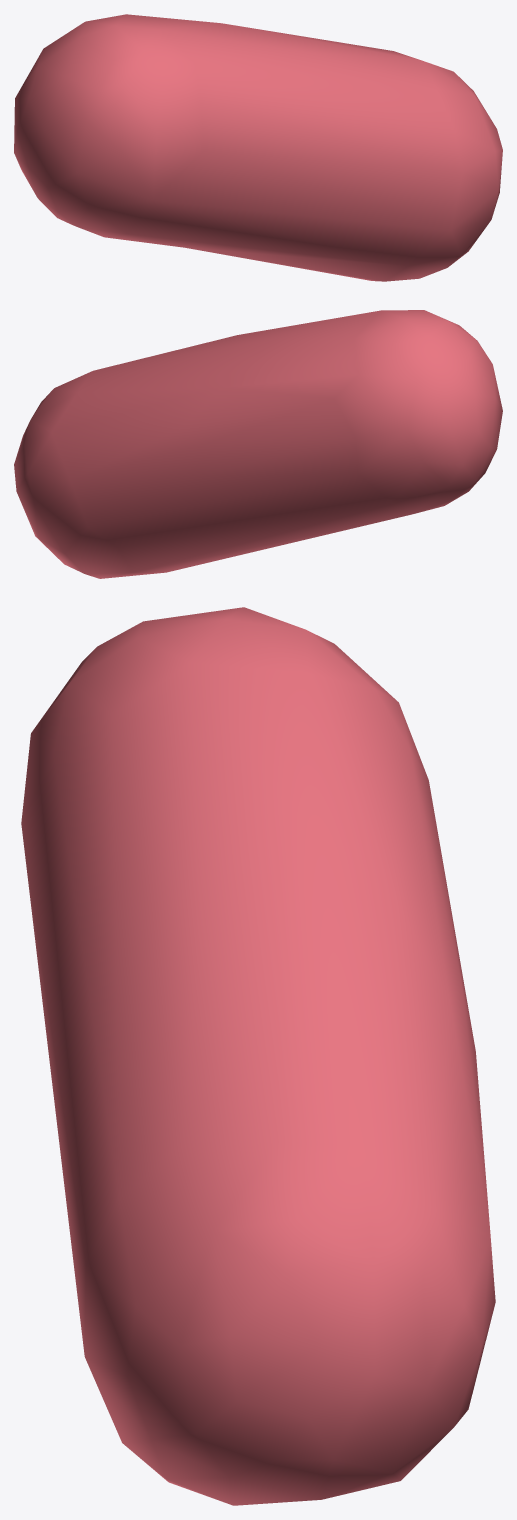
The model's file is fma82695_fj3122.glb.
The picture shows the model from 3 angles, top to bottom: view 1: azimuth 30°, elevation 25°; view 2: azimuth 150°, elevation 25°; view 3: azimuth 270°, elevation 25°; orthographic projection. The views are drawn at different scales.
Parts seen in each view (by area): view 1: FMA82695_FJ3122; view 2: FMA82695_FJ3122; view 3: FMA82695_FJ3122.
Part boxes in pixels (x1,y1,x2,y2): FMA82695_FJ3122: (14, 14, 502, 281); FMA82695_FJ3122: (14, 310, 502, 578); FMA82695_FJ3122: (21, 607, 495, 1505).
Size of the model in its own units: 0.014 by 0.00917 by 0.00646.
